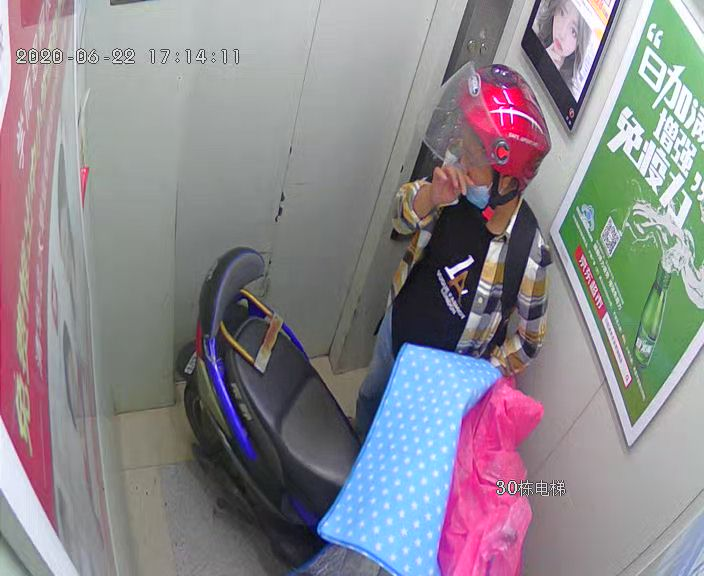Electric-bicycle: (181, 246, 522, 574)
